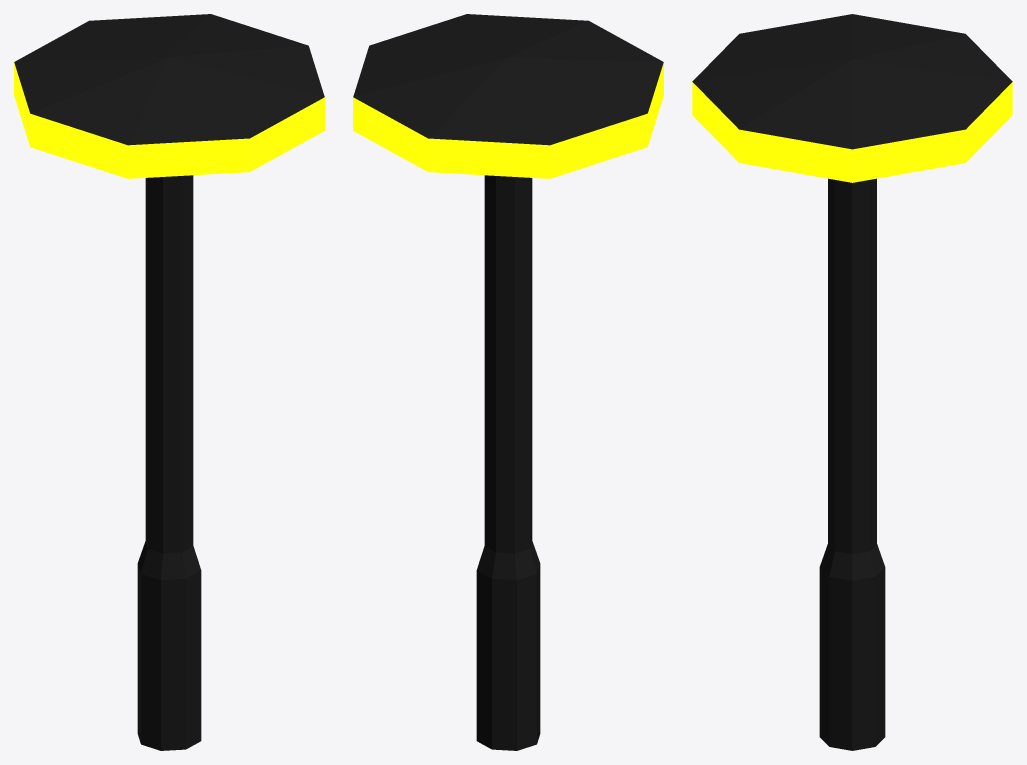
File: s0_room_lamp.fbx
The picture shows the model from 3 angles, left to right: view 1: azimuth 30°, elevation 25°; view 2: azimuth 150°, elevation 25°; view 3: azimuth 270°, elevation 25°; orthographic projection.
Visible parts, largest first — view 1: LampPost; view 2: LampPost; view 3: LampPost.
Boxes of the visible parts, x1,y1,x2,y2 form: LampPost: (14, 14, 324, 750); LampPost: (353, 14, 663, 750); LampPost: (692, 14, 1012, 750).
Size of the model in its own units: 130 by 303 by 130.
